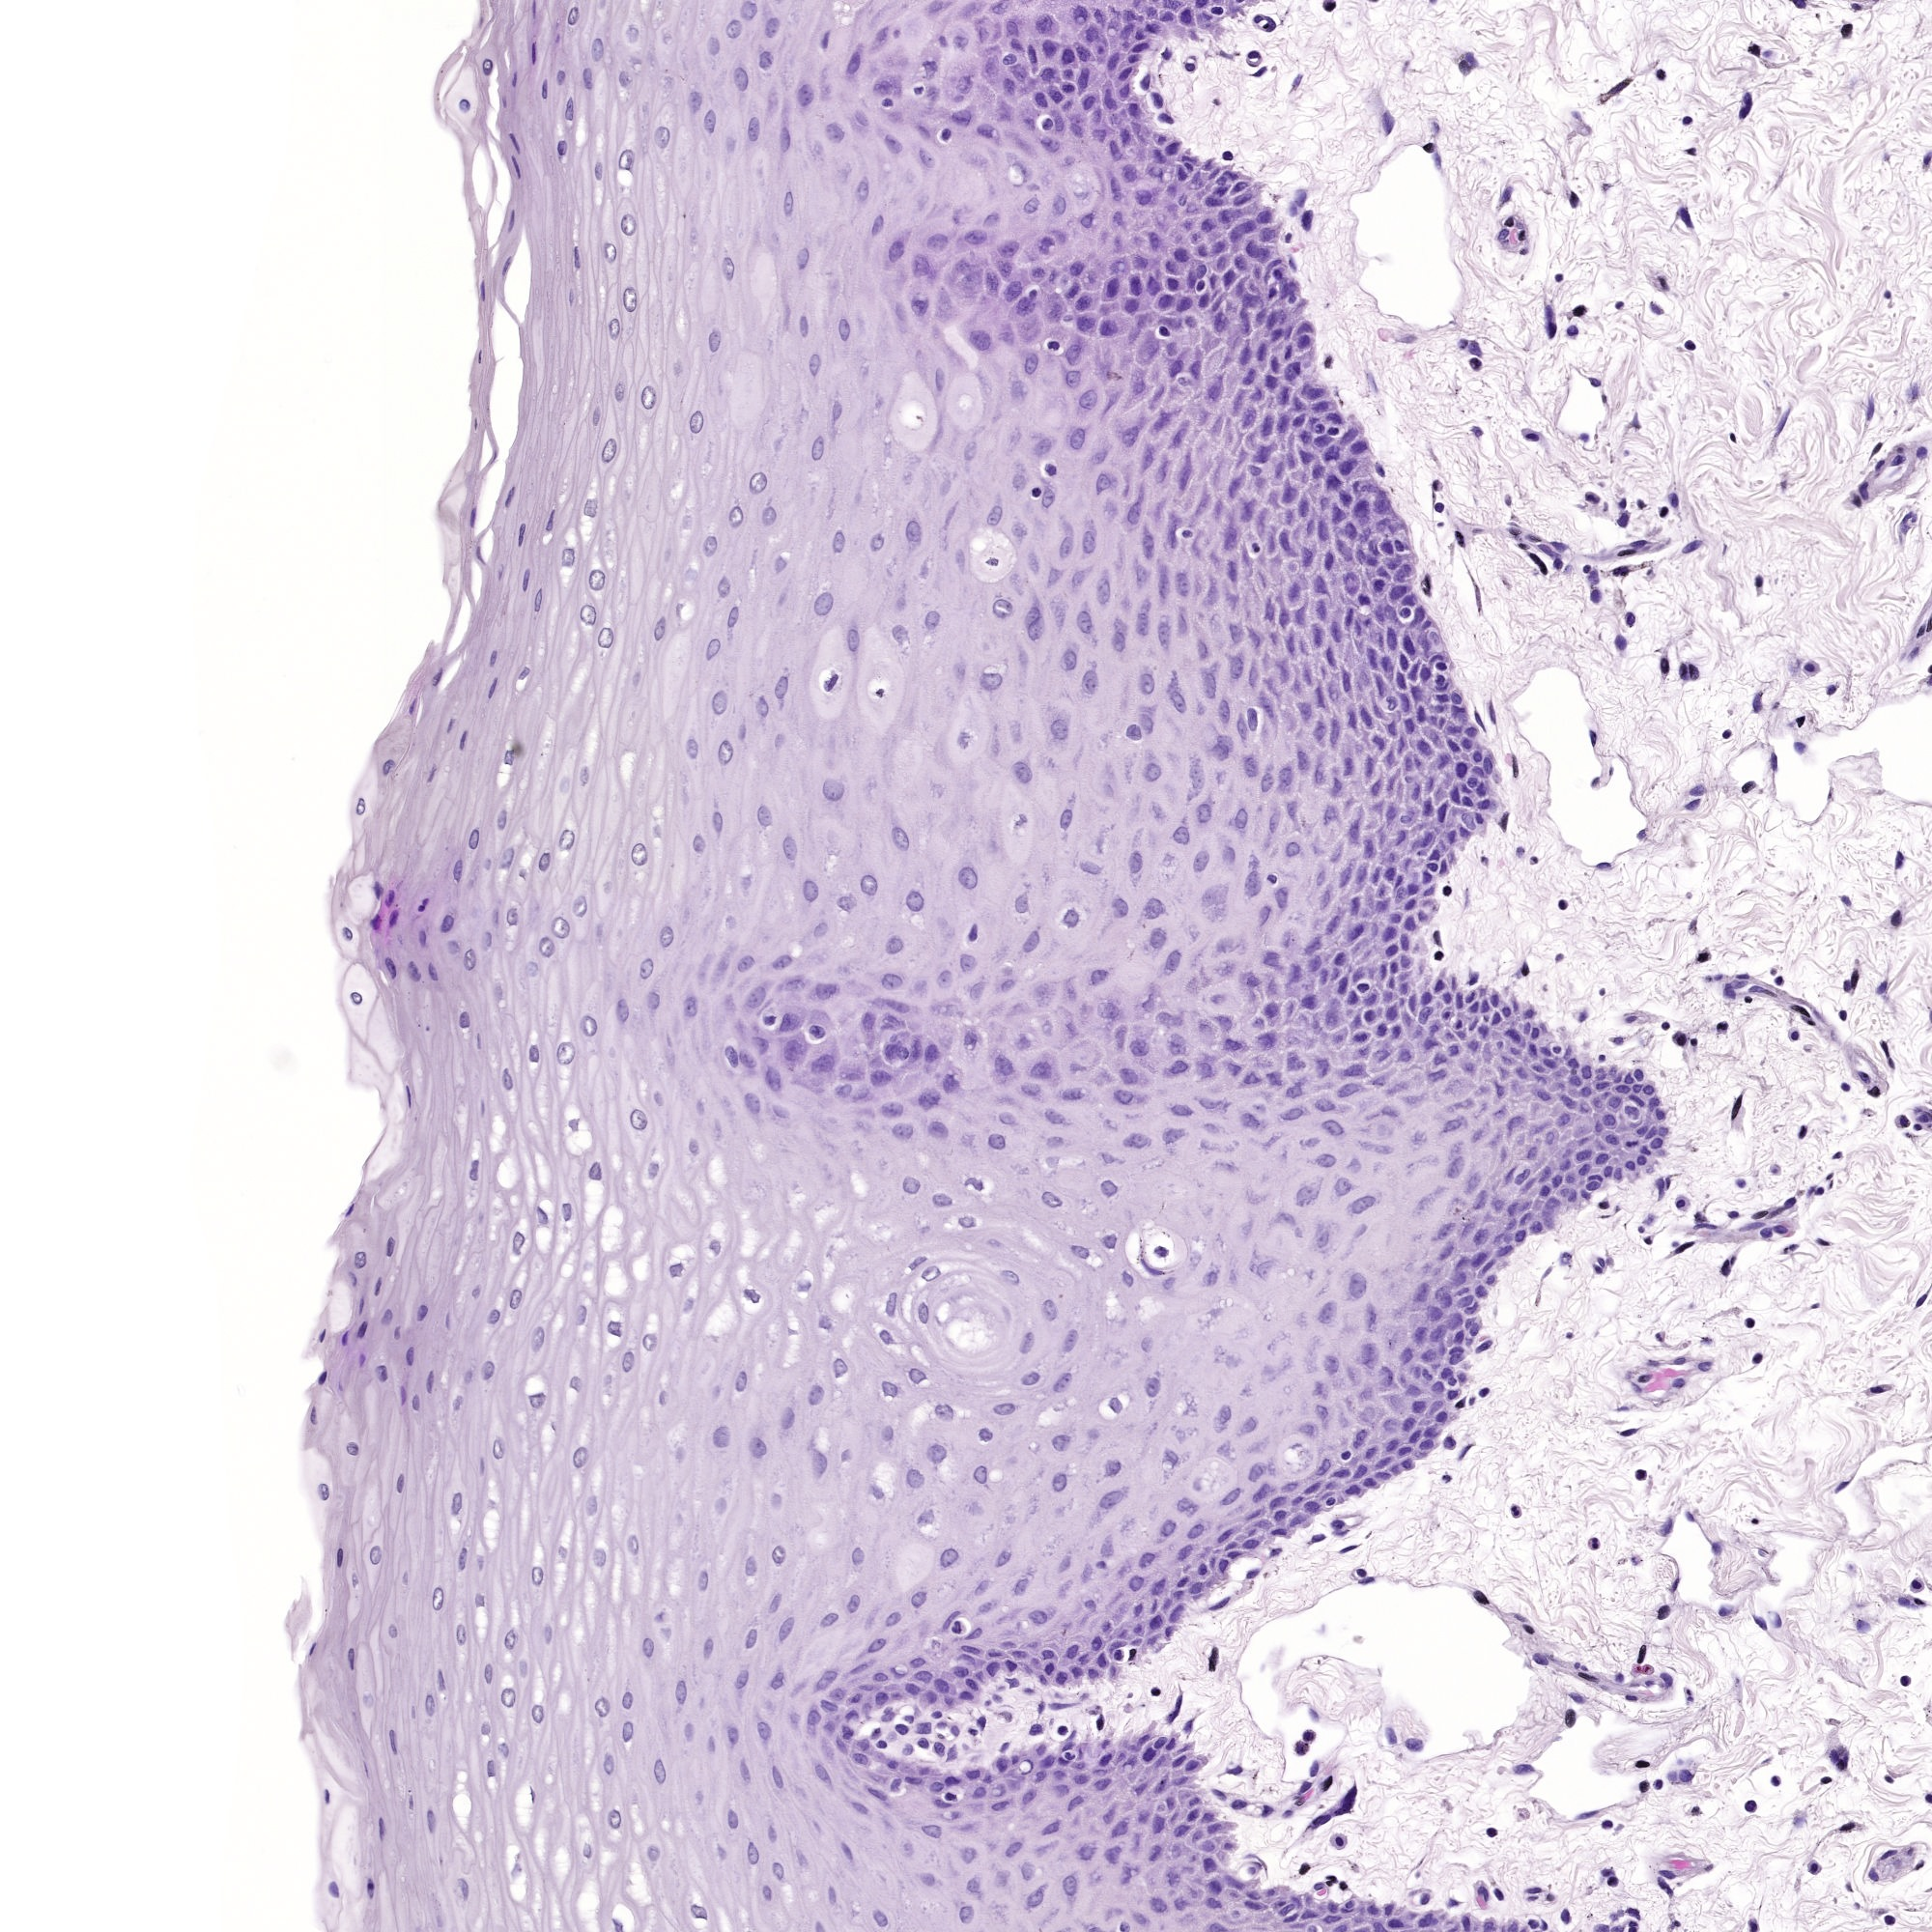apoptosis / civiatte body: (421, 901, 426, 908)
epithelial: (1106, 1010, 1116, 1017), (1304, 1189, 1311, 1198), (1230, 1490, 1237, 1499), (685, 1005, 695, 1010), (1392, 1925, 1408, 1928), (1108, 101, 1115, 108), (1007, 246, 1014, 253), (991, 278, 996, 287), (867, 883, 876, 888), (1067, 1334, 1072, 1343), (812, 1392, 817, 1401), (1260, 1490, 1265, 1499), (962, 1907, 968, 1916), (1046, 46, 1053, 51), (1247, 377, 1254, 382), (1329, 453, 1339, 456), (1345, 465, 1352, 471), (1118, 633, 1122, 644), (759, 1042, 764, 1049), (752, 994, 757, 1001), (878, 1077, 885, 1083), (895, 1005, 902, 1010), (1161, 1017, 1168, 1023), (1074, 1249, 1081, 1254), (718, 1504, 725, 1509), (1290, 1914, 1297, 1920), (800, 1856, 805, 1863), (1178, 435, 1182, 444), (1060, 605, 1063, 614), (1141, 617, 1145, 626), (1249, 763, 1253, 771), (1352, 826, 1355, 835), (1325, 895, 1329, 904), (791, 1047, 794, 1056), (968, 1035, 971, 1044), (1461, 1258, 1465, 1267), (1152, 1384, 1155, 1392), (1283, 1907, 1292, 1911), (1099, 1780, 1108, 1783), (609, 1759, 612, 1767), (881, 85, 886, 90), (892, 249, 897, 255), (962, 85, 968, 90), (1001, 265, 1007, 271), (1283, 288, 1288, 294), (1414, 787, 1419, 793), (1315, 961, 1320, 966), (750, 1102, 755, 1108), (973, 989, 978, 994), (1051, 1116, 1056, 1122), (1205, 1145, 1210, 1150), (1322, 1104, 1327, 1109), (1433, 1332, 1438, 1338), (626, 1359, 632, 1364), (773, 1601, 778, 1606), (1307, 1488, 1313, 1493), (1120, 1631, 1125, 1637), (1046, 1665, 1051, 1670), (1046, 1760, 1051, 1766), (1136, 1785, 1141, 1790), (803, 96, 807, 103), (851, 62, 855, 69), (1111, 58, 1115, 65), (1244, 352, 1247, 359), (1146, 458, 1150, 465), (1161, 467, 1164, 474), (732, 614, 736, 621), (1180, 582, 1184, 589), (1322, 529, 1325, 536), (1196, 773, 1200, 780), (989, 678, 993, 685), (545, 860, 548, 867), (1178, 833, 1185, 837), (1203, 810, 1207, 817), (1212, 893, 1215, 901), (1175, 954, 1178, 961), (1223, 945, 1230, 948), (1361, 870, 1364, 878), (1368, 846, 1371, 853), (1426, 803, 1430, 810), (821, 1063, 828, 1067), (964, 961, 971, 964), (1039, 1069, 1046, 1072), (1136, 1138, 1143, 1141), (1205, 1067, 1208, 1074), (1270, 984, 1274, 991), (1330, 1014, 1334, 1021), (1631, 1111, 1635, 1118), (1476, 1233, 1479, 1240), (1405, 1353, 1408, 1361), (1063, 1380, 1067, 1387), (492, 1315, 499, 1318), (387, 1244, 391, 1251), (915, 1477, 918, 1484), (1143, 1560, 1146, 1568), (1063, 1587, 1067, 1594), (971, 1633, 978, 1637), (1178, 1759, 1185, 1762), (1159, 1782, 1162, 1789), (1047, 1828, 1054, 1831), (662, 134, 665, 140), (876, 223, 879, 228), (1169, 145, 1173, 150), (1240, 198, 1246, 202), (1226, 212, 1230, 218), (918, 264, 922, 269), (1132, 285, 1138, 288), (1228, 276, 1231, 281), (1086, 398, 1090, 403), (1162, 421, 1168, 425), (1099, 481, 1104, 485), (1318, 439, 1323, 442), (1346, 435, 1352, 439), (1231, 485, 1242, 487), (1017, 479, 1023, 483), (975, 333, 980, 336), (534, 600, 540, 603), (660, 628, 663, 633), (1053, 573, 1056, 579), (1104, 589, 1106, 600), (1336, 511, 1339, 517), (1359, 554, 1362, 559), (1401, 571, 1405, 577), (1394, 589, 1398, 594), (1146, 681, 1150, 686), (1380, 681, 1384, 686), (1265, 782, 1269, 787), (1380, 743, 1384, 748), (1375, 784, 1378, 789), (955, 669, 959, 674), (444, 922, 448, 927), (810, 890, 814, 895), (901, 835, 904, 840), (1122, 904, 1125, 909), (1253, 885, 1256, 890), (1336, 855, 1339, 860), (1330, 924, 1334, 929), (1387, 932, 1391, 938), (1338, 955, 1341, 961), (464, 1019, 467, 1024), (745, 1058, 748, 1063), (823, 989, 828, 993), (1136, 1044, 1139, 1049), (1129, 1076, 1132, 1081), (1169, 1132, 1173, 1138), (1182, 1106, 1185, 1111), (1231, 1067, 1235, 1072), (1343, 1088, 1353, 1090), (1633, 1141, 1638, 1145), (1522, 1177, 1527, 1180), (1467, 1230, 1470, 1235), (1479, 1290, 1483, 1295), (1458, 1277, 1461, 1283), (1461, 1300, 1467, 1304), (1419, 1332, 1424, 1336), (1453, 1357, 1458, 1361), (1426, 1353, 1431, 1357), (1168, 1279, 1171, 1284), (913, 1373, 918, 1376), (886, 1387, 890, 1392), (932, 1454, 938, 1458), (980, 1587, 985, 1591), (1231, 1552, 1235, 1557), (1251, 1541, 1254, 1546), (1295, 1518, 1300, 1522), (1382, 1474, 1387, 1477), (1322, 1408, 1325, 1414), (1253, 1891, 1256, 1897), (1007, 1663, 1012, 1667), (890, 1615, 893, 1621), (977, 1790, 982, 1794), (1102, 1759, 1108, 1762), (1141, 1737, 1146, 1741), (1214, 1826, 1219, 1829), (1180, 1829, 1185, 1833), (1012, 1845, 1016, 1851), (1115, 1854, 1118, 1859), (1154, 1852, 1157, 1858), (488, 1766, 492, 1771), (1129, 433, 1131, 442), (1162, 626, 1164, 635), (1233, 536, 1235, 545), (1373, 656, 1375, 665), (1410, 918, 1412, 927), (474, 1166, 476, 1175), (793, 984, 801, 985), (1359, 1203, 1368, 1205), (1049, 1307, 1051, 1316), (839, 1362, 840, 1371), (816, 1461, 824, 1463), (1102, 1652, 1104, 1661), (789, 1621, 791, 1629), (740, 1675, 741, 1684), (524, 1665, 525, 1674), (488, 1667, 490, 1675), (596, 48, 600, 51), (625, 78, 628, 81), (695, 101, 699, 104), (709, 119, 713, 122), (892, 142, 895, 145), (959, 41, 962, 44), (932, 4, 936, 7), (1012, 23, 1014, 30), (1016, 71, 1019, 74), (1054, 96, 1058, 99), (1042, 21, 1046, 25), (1125, 28, 1127, 35), (1150, 28, 1157, 30), (1099, 134, 1102, 138), (1263, 214, 1265, 221), (1265, 234, 1272, 235), (1154, 241, 1157, 244), (971, 235, 975, 239), (1113, 285, 1116, 288), (1200, 267, 1203, 271), (1251, 301, 1254, 304), (1215, 303, 1219, 306), (1237, 287, 1240, 290), (1261, 313, 1263, 320), (1270, 320, 1274, 324), (1302, 327, 1309, 329), (1286, 350, 1290, 354), (1148, 343, 1150, 350), (1109, 402, 1113, 405), (1237, 398, 1240, 402), (1322, 403, 1325, 407), (1357, 446, 1361, 449), (1318, 469, 1320, 476), (970, 448, 971, 455), (842, 327, 846, 331), (768, 511, 770, 518), (911, 531, 915, 534), (931, 617, 932, 625), (1033, 630, 1037, 633), (1146, 541, 1148, 548), (1212, 593, 1214, 600), (1283, 538, 1286, 541), (1150, 770, 1154, 773), (1207, 685, 1210, 688), (1269, 708, 1272, 711), (1431, 656, 1435, 660), (1422, 747, 1426, 750), (1481, 786, 1483, 793), (511, 916, 515, 920), (697, 844, 701, 847), (745, 964, 748, 968), (646, 968, 649, 971), (846, 901, 849, 904), (893, 943, 897, 947), (964, 876, 968, 879), (1201, 858, 1203, 865), (1318, 878, 1322, 881), (1311, 947, 1318, 948), (1461, 832, 1465, 835), (1412, 886, 1415, 890), (1357, 929, 1361, 932), (1408, 901, 1412, 904), (1389, 950, 1392, 954), (506, 1077, 508, 1085), (862, 1095, 865, 1099), (932, 1053, 936, 1056), (901, 1129, 904, 1132), (943, 978, 947, 982), (1177, 1044, 1178, 1051), (1231, 1044, 1235, 1047), (1270, 1008, 1274, 1012), (1307, 1001, 1311, 1005), (1293, 1090, 1297, 1093), (1288, 1115, 1295, 1116), (1332, 1125, 1336, 1129), (1325, 1157, 1327, 1164), (1322, 1065, 1325, 1069), (1352, 1069, 1359, 1070), (1361, 1053, 1364, 1056), (1359, 1037, 1362, 1040), (1343, 984, 1345, 991), (1394, 1088, 1398, 1092), (1438, 985, 1442, 989), (1580, 1154, 1583, 1157), (1583, 1168, 1587, 1171), (1591, 1185, 1594, 1189), (1444, 1228, 1445, 1235), (1476, 1258, 1477, 1265), (1456, 1293, 1463, 1295), (1426, 1375, 1430, 1378), (1208, 1276, 1212, 1279), (1024, 1341, 1026, 1348), (922, 1311, 925, 1315), (534, 1338, 538, 1341), (515, 1297, 517, 1304), (518, 1240, 522, 1244), (456, 1401, 460, 1405), (580, 1454, 582, 1461), (720, 1433, 722, 1440), (789, 1414, 791, 1421), (920, 1594, 922, 1601), (924, 1516, 927, 1520), (1109, 1497, 1113, 1500), (1157, 1585, 1161, 1589), (1180, 1580, 1184, 1583), (1276, 1500, 1279, 1504), (1357, 1437, 1361, 1440), (1330, 1918, 1338, 1920), (1136, 1628, 1139, 1631), (1111, 1644, 1118, 1645), (973, 1649, 977, 1652), (931, 1695, 934, 1698), (922, 1675, 925, 1679), (828, 1706, 832, 1709), (828, 1727, 832, 1730), (775, 1679, 778, 1683), (828, 1619, 832, 1622), (777, 1773, 778, 1780), (821, 1773, 824, 1776), (858, 1757, 862, 1760), (856, 1805, 860, 1808), (1146, 1755, 1150, 1759), (1180, 1778, 1184, 1782), (1157, 1819, 1159, 1826), (1106, 1813, 1109, 1817), (1024, 1794, 1028, 1798), (1000, 1805, 1003, 1808), (1180, 1902, 1184, 1905), (547, 1633, 550, 1637), (426, 1704, 430, 1707), (502, 1748, 506, 1752), (587, 74, 589, 80), (731, 28, 736, 30), (787, 202, 789, 207), (991, 65, 993, 71), (1014, 44, 1019, 46), (1008, 85, 1010, 90), (1065, 88, 1070, 90), (1088, 34, 1093, 35), (1067, 55, 1069, 60), (1067, 74, 1072, 76), (1083, 80, 1085, 85), (1185, 14, 1187, 19), (1139, 46, 1145, 48), (1131, 58, 1136, 60), (1123, 71, 1125, 76), (1097, 113, 1099, 119), (1125, 133, 1127, 138), (1214, 202, 1219, 203), (1207, 223, 1208, 228), (1219, 244, 1221, 249), (1145, 196, 1146, 202), (1182, 198, 1184, 203), (1086, 219, 1088, 225), (991, 218, 993, 223), (1049, 239, 1051, 244), (1139, 260, 1141, 265), (1293, 364, 1295, 370), (1185, 472, 1187, 478), (1284, 393, 1286, 398), (1277, 469, 1279, 474), (1290, 492, 1292, 497), (1345, 497, 1350, 499), (1016, 386, 1017, 391), (918, 303, 920, 308), (713, 338, 715, 343), (724, 586, 725, 591), (1031, 617, 1033, 623), (1085, 617, 1086, 623), (1065, 543, 1067, 548), (1182, 621, 1184, 626), (1246, 510, 1247, 515), (1371, 561, 1376, 563), (1224, 711, 1226, 717), (1290, 639, 1292, 644), (1283, 667, 1284, 672), (1330, 656, 1332, 662), (1387, 662, 1389, 667), (1415, 690, 1417, 695), (1284, 773, 1286, 778), (1348, 764, 1350, 770), (1408, 761, 1410, 766), (1454, 791, 1456, 796), (1024, 771, 1026, 777), (472, 837, 474, 842), (414, 968, 416, 973), (1031, 939, 1033, 945), (1242, 817, 1244, 823), (1228, 851, 1230, 856), (1283, 893, 1284, 899), (1389, 810, 1391, 816), (1403, 819, 1408, 821), (1389, 870, 1391, 876), (1422, 915, 1424, 920), (356, 996, 357, 1001), (571, 1122, 573, 1127), (653, 1168, 655, 1173), (770, 1079, 775, 1081), (844, 1088, 846, 1093), (892, 1109, 897, 1111), (938, 1127, 939, 1132), (1001, 1062, 1003, 1067), (1042, 991, 1044, 996), (1122, 1095, 1127, 1097), (1208, 1127, 1214, 1129), (1341, 1184, 1343, 1189), (1391, 1012, 1392, 1017), (1387, 1109, 1389, 1115), (1424, 1012, 1426, 1017), (1651, 1100, 1652, 1106), (1642, 1129, 1644, 1134), (1557, 1180, 1559, 1185), (1509, 1175, 1511, 1180), (1481, 1196, 1483, 1201), (1499, 1200, 1500, 1205), (1523, 1215, 1525, 1221), (1445, 1247, 1447, 1253), (1490, 1279, 1491, 1284), (1454, 1320, 1456, 1325), (1327, 1309, 1329, 1315), (1369, 1353, 1371, 1359), (1146, 1341, 1148, 1346), (1007, 1276, 1012, 1277), (892, 1300, 893, 1306), (386, 1315, 387, 1320), (377, 1286, 379, 1292), (430, 1378, 432, 1384), (600, 1553, 602, 1559), (702, 1578, 704, 1583), (663, 1394, 665, 1399), (858, 1553, 860, 1559), (1138, 1605, 1139, 1610), (1178, 1606, 1180, 1612), (1182, 1552, 1184, 1557), (1194, 1529, 1196, 1534), (1428, 1920, 1430, 1925), (1169, 1628, 1171, 1633), (1106, 1624, 1108, 1629), (1077, 1670, 1079, 1675), (950, 1615, 952, 1621), (959, 1672, 964, 1674), (964, 1695, 970, 1697), (856, 1668, 862, 1670), (948, 1780, 954, 1782), (1058, 1776, 1063, 1778), (1079, 1780, 1085, 1782), (1159, 1743, 1161, 1748), (1192, 1813, 1194, 1819), (1120, 1824, 1122, 1829), (1205, 1845, 1207, 1851), (1173, 1875, 1175, 1881), (1000, 1875, 1001, 1881), (487, 64, 488, 67), (513, 140, 517, 142), (561, 145, 563, 149), (543, 87, 545, 90), (711, 46, 715, 48), (748, 7, 752, 9), (770, 27, 773, 28), (752, 127, 755, 129), (784, 136, 786, 140), (879, 34, 881, 37), (832, 131, 835, 133), (941, 39, 943, 42), (980, 30, 982, 34), (1031, 51, 1033, 55), (1039, 99, 1040, 103), (1046, 73, 1047, 76), (1081, 9, 1083, 12), (1083, 51, 1085, 55), (1138, 35, 1141, 37), (1076, 129, 1077, 133), (1132, 108, 1134, 111), (1115, 149, 1116, 152), (1159, 156, 1161, 159), (1185, 156, 1187, 159), (964, 119, 968, 120), (982, 131, 985, 133), (1053, 142, 1054, 145), (1207, 165, 1210, 166), (1221, 180, 1223, 184), (1238, 186, 1242, 188), (1247, 226, 1251, 228), (1233, 235, 1235, 239), (1118, 216, 1120, 219), (1058, 205, 1060, 209), (939, 241, 941, 244), (1076, 267, 1079, 269), (1154, 285, 1155, 288), (1191, 278, 1192, 281), (1221, 262, 1223, 265), (1240, 264, 1242, 267), (1164, 301, 1166, 304), (1081, 301, 1083, 304), (1302, 341, 1306, 343), (1274, 364, 1277, 366), (1214, 395, 1217, 396), (1194, 370, 1196, 373), (1173, 366, 1177, 368), (1155, 395, 1159, 396), (1097, 456, 1100, 458), (1246, 416, 1247, 419), (1334, 416, 1338, 418), (1306, 456, 1307, 460), (1253, 469, 1254, 472), (1290, 460, 1292, 464), (814, 363, 816, 366), (619, 387, 621, 391), (570, 295, 571, 299), (594, 414, 596, 418), (472, 513, 474, 517), (837, 541, 839, 545), (823, 603, 824, 607), (959, 556, 961, 559), (948, 513, 950, 517), (1017, 531, 1021, 533), (1033, 563, 1035, 566), (1217, 506, 1219, 510), (1399, 545, 1401, 548), (1345, 550, 1348, 552), (1318, 582, 1320, 586), (1391, 564, 1392, 568), (1460, 766, 1461, 770), (1201, 649, 1203, 653), (1143, 720, 1146, 722), (1251, 671, 1253, 674), (1304, 709, 1306, 713), (1403, 660, 1405, 663), (1442, 697, 1445, 699), (1391, 702, 1392, 706), (1408, 722, 1410, 725), (1391, 725, 1392, 729), (1376, 709, 1378, 713), (1362, 717, 1364, 720), (1338, 784, 1339, 787), (1368, 766, 1369, 770), (1401, 743, 1403, 747), (1389, 757, 1392, 759), (1391, 780, 1392, 784), (1454, 743, 1456, 747), (1453, 731, 1456, 732), (1476, 755, 1477, 759), (1467, 801, 1468, 805), (458, 863, 460, 867), (433, 971, 435, 975), (764, 816, 766, 819), (732, 920, 734, 924), (780, 964, 784, 966), (1154, 904, 1155, 908), (1290, 847, 1293, 849), (1484, 801, 1486, 805), (1477, 817, 1479, 821), (1435, 853, 1437, 856), (1431, 867, 1435, 869), (1430, 890, 1431, 893), (1399, 893, 1401, 897), (1398, 879, 1399, 883), (1295, 971, 1297, 975), (1382, 968, 1384, 971), (1405, 959, 1407, 962), (651, 1001, 655, 1003), (658, 1097, 660, 1100), (789, 1023, 791, 1026), (867, 1021, 869, 1024), (892, 982, 893, 985), (904, 1053, 906, 1056), (929, 1097, 931, 1100), (908, 1184, 909, 1187), (939, 1198, 941, 1201), (593, 1168, 594, 1171), (1070, 1024, 1072, 1028), (1120, 1033, 1122, 1037), (1070, 1093, 1074, 1095), (1074, 1067, 1077, 1069), (1049, 1198, 1051, 1201), (1177, 1067, 1180, 1069), (1205, 1028, 1207, 1031), (1224, 1023, 1228, 1024), (1215, 996, 1217, 1000), (1207, 1104, 1210, 1106), (1247, 1120, 1251, 1122), (1267, 1039, 1269, 1042), (1293, 1062, 1295, 1065), (1352, 996, 1353, 1000), (1357, 975, 1359, 978), (1371, 998, 1373, 1001), (1412, 1001, 1414, 1005), (1380, 1028, 1382, 1031), (1407, 1017, 1408, 1021), (1424, 996, 1426, 1000), (1628, 1077, 1629, 1081), (1660, 1115, 1661, 1118), (1617, 1171, 1619, 1175), (1566, 1162, 1568, 1166), (1545, 1171, 1546, 1175), (1564, 1191, 1566, 1194), (1525, 1185, 1527, 1189), (1509, 1207, 1511, 1210), (1468, 1309, 1472, 1311), (1467, 1322, 1468, 1325), (1458, 1336, 1460, 1339), (1433, 1313, 1435, 1316), (1371, 1315, 1373, 1318), (1454, 1350, 1458, 1352), (1461, 1376, 1463, 1380), (1435, 1387, 1437, 1391), (1412, 1392, 1415, 1394), (1261, 1267, 1263, 1270), (1125, 1274, 1127, 1277), (1108, 1240, 1109, 1244), (968, 1221, 971, 1223), (1028, 1380, 1030, 1384), (913, 1263, 916, 1265), (740, 1380, 741, 1384), (686, 1306, 688, 1309), (359, 1260, 361, 1263), (349, 1212, 350, 1215), (322, 1376, 324, 1380), (343, 1339, 345, 1343), (382, 1373, 384, 1376), (350, 1447, 352, 1451), (755, 1444, 757, 1447), (855, 1601, 856, 1605), (876, 1490, 878, 1493), (943, 1412, 947, 1414), (1168, 1454, 1171, 1456), (1249, 1426, 1251, 1430), (1106, 1546, 1108, 1550), (1136, 1585, 1138, 1589), (1223, 1562, 1224, 1566), (1223, 1536, 1224, 1539), (1254, 1472, 1256, 1476), (1279, 1532, 1283, 1534), (1311, 1506, 1315, 1507), (1295, 1499, 1297, 1502), (1307, 1428, 1309, 1431), (1424, 1444, 1428, 1445), (1430, 1431, 1431, 1435), (1532, 1923, 1534, 1927), (1251, 1905, 1254, 1907), (1277, 1905, 1281, 1907), (1307, 1914, 1309, 1918), (1157, 1621, 1159, 1624), (1037, 1617, 1039, 1621), (991, 1667, 993, 1670), (939, 1684, 941, 1688), (911, 1688, 915, 1690), (948, 1698, 950, 1702), (879, 1675, 881, 1679), (846, 1732, 849, 1734), (812, 1716, 814, 1720), (763, 1729, 764, 1732), (842, 1743, 844, 1746), (874, 1792, 878, 1794), (913, 1782, 916, 1783), (971, 1773, 975, 1775), (1039, 1775, 1040, 1778), (1191, 1764, 1192, 1767), (1207, 1815, 1208, 1819), (1076, 1799, 1077, 1803), (1212, 1904, 1215, 1905), (1125, 1874, 1127, 1877), (403, 1576, 405, 1580), (350, 1654, 352, 1658), (465, 1888, 467, 1891), (653, 1852, 656, 1854), (734, 1819, 736, 1822), (513, 80, 515, 81), (504, 101, 506, 103), (517, 166, 518, 168), (571, 14, 573, 16), (632, 34, 633, 35), (764, 58, 766, 60), (506, 264, 508, 265), (862, 117, 863, 119), (803, 255, 805, 257), (929, 67, 931, 69), (1000, 7, 1001, 9), (1010, 58, 1012, 60), (1099, 16, 1100, 18), (1169, 18, 1171, 19), (1115, 119, 1116, 120), (1115, 184, 1116, 186), (1221, 191, 1223, 193), (1233, 175, 1235, 177), (1031, 205, 1033, 207), (1171, 283, 1173, 285), (1171, 267, 1173, 269), (1180, 255, 1182, 257), (1292, 297, 1293, 299), (1203, 299, 1205, 301), (1106, 327, 1108, 329), (1086, 322, 1088, 324), (1191, 322, 1192, 324), (1276, 333, 1277, 334), (1270, 382, 1272, 384), (1297, 405, 1299, 407), (1311, 419, 1313, 421), (1304, 435, 1306, 437), (1332, 483, 1334, 485), (478, 554, 479, 556), (520, 531, 522, 533), (780, 563, 782, 564), (1077, 579, 1079, 580), (1231, 598, 1233, 600), (1350, 531, 1352, 533), (1373, 548, 1375, 550), (1362, 602, 1364, 603), (1382, 525, 1384, 527), (1412, 600, 1414, 602), (1219, 752, 1221, 754), (1253, 637, 1254, 639), (1424, 674, 1426, 676), (1422, 637, 1424, 639), (1454, 697, 1456, 699), (1318, 729, 1320, 731), (1302, 763, 1304, 764), (1417, 761, 1419, 763), (1430, 782, 1431, 784), (1444, 761, 1445, 763), (1470, 732, 1472, 734), (1470, 782, 1472, 784), (1058, 727, 1060, 729), (389, 968, 391, 970), (1021, 904, 1023, 906), (1136, 863, 1138, 865), (1269, 959, 1270, 961), (1401, 837, 1403, 839), (1428, 835, 1430, 837), (1426, 878, 1428, 879), (409, 1095, 410, 1097), (778, 1109, 780, 1111), (853, 1077, 855, 1079), (876, 1063, 878, 1065), (950, 1085, 952, 1086), (1023, 1042, 1024, 1044), (1148, 1005, 1150, 1007), (1056, 1141, 1058, 1143), (1049, 1161, 1051, 1162), (1108, 1157, 1109, 1159), (1258, 1023, 1260, 1024), (1253, 982, 1254, 984), (1274, 1077, 1276, 1079), (1380, 1054, 1382, 1056), (1412, 1099, 1414, 1100), (1598, 1129, 1599, 1131), (1612, 1139, 1614, 1141), (1601, 1159, 1603, 1161), (1568, 1178, 1569, 1180), (1598, 1177, 1599, 1178), (1511, 1223, 1513, 1224), (1504, 1251, 1506, 1253), (1488, 1265, 1490, 1267), (1474, 1329, 1476, 1330), (715, 1246, 717, 1247), (612, 1327, 614, 1329), (575, 1382, 577, 1384), (566, 1210, 568, 1212), (322, 1336, 324, 1338), (534, 1399, 536, 1401), (354, 1578, 356, 1580), (478, 1599, 479, 1601), (844, 1454, 846, 1456), (1060, 1442, 1062, 1444), (1115, 1467, 1116, 1468), (1184, 1504, 1185, 1506), (1023, 1587, 1024, 1589), (1178, 1592, 1180, 1594), (1230, 1546, 1231, 1548), (1403, 1449, 1405, 1451), (1391, 1445, 1392, 1447), (1412, 1438, 1414, 1440), (1272, 1891, 1274, 1893), (1373, 1913, 1375, 1914), (1488, 1925, 1490, 1927), (1083, 1661, 1085, 1663), (971, 1684, 973, 1686), (881, 1697, 883, 1698), (876, 1645, 878, 1647), (865, 1688, 867, 1690), (855, 1698, 856, 1700), (837, 1695, 839, 1697), (863, 1746, 865, 1748), (893, 1766, 895, 1767), (1040, 1748, 1042, 1750), (1169, 1746, 1171, 1748), (1196, 1835, 1198, 1836), (1233, 1882, 1235, 1884), (878, 1918, 879, 1920), (846, 1849, 847, 1851), (648, 1645, 649, 1647), (732, 1734, 734, 1736), (311, 1649, 313, 1651), (586, 1851, 587, 1852), (701, 1909, 702, 1911)
fibroblast and endothelial: (1219, 1599, 1224, 1606), (952, 1727, 957, 1734), (1511, 529, 1520, 533), (1844, 1826, 1852, 1829), (1683, 1775, 1691, 1778), (1886, 1851, 1895, 1854), (1690, 545, 1695, 550), (1479, 1592, 1484, 1598), (1920, 448, 1923, 455), (1861, 488, 1865, 495), (1571, 329, 1578, 333), (1840, 1762, 1844, 1769), (1663, 1886, 1667, 1893), (1297, 78, 1300, 83), (1683, 214, 1686, 219), (1897, 458, 1900, 464), (1479, 428, 1483, 433), (1472, 345, 1476, 350), (1541, 564, 1545, 570), (1757, 697, 1759, 708), (1895, 915, 1897, 925), (1679, 1247, 1684, 1251), (1665, 1522, 1668, 1527), (1663, 1612, 1667, 1617), (1668, 1775, 1674, 1778), (1539, 1658, 1543, 1663), (1665, 1677, 1668, 1683), (1412, 1741, 1417, 1744), (1518, 1767, 1529, 1769), (1341, 1810, 1346, 1813), (1350, 1794, 1353, 1799), (901, 1729, 904, 1734), (1725, 1263, 1727, 1272), (1583, 1813, 1592, 1815), (1316, 1821, 1325, 1822), (1307, 216, 1309, 223), (1573, 198, 1576, 202), (1691, 150, 1695, 154), (1780, 423, 1783, 426), (1881, 462, 1884, 465), (1640, 504, 1644, 508), (1773, 759, 1776, 763), (1594, 780, 1598, 784), (1516, 764, 1518, 771), (1914, 649, 1916, 656), (763, 704, 766, 708), (717, 701, 720, 704), (387, 895, 391, 899), (1734, 1104, 1736, 1111), (1921, 1116, 1925, 1120), (1679, 1359, 1683, 1362), (1463, 1451, 1467, 1454), (1447, 1442, 1451, 1445), (1688, 1514, 1691, 1518), (1638, 1762, 1642, 1766), (1872, 1874, 1875, 1877), (1499, 1893, 1502, 1897), (1327, 1778, 1329, 1785), (1302, 1868, 1306, 1872), (996, 1698, 1000, 1702), (1007, 1716, 1010, 1720), (936, 1713, 939, 1716), (950, 1752, 954, 1755), (1261, 71, 1263, 76), (1463, 62, 1465, 67), (1732, 435, 1734, 441), (1592, 380, 1598, 382), (1329, 359, 1330, 364), (1428, 580, 1430, 586), (1530, 538, 1536, 540), (1557, 543, 1562, 545), (1522, 545, 1527, 547), (1596, 594, 1598, 600), (1622, 640, 1624, 646), (826, 791, 832, 793), (375, 920, 377, 925), (1886, 1046, 1888, 1051), (1759, 989, 1764, 991), (1741, 977, 1746, 978), (1580, 1012, 1582, 1017), (1755, 1223, 1757, 1228), (1773, 1212, 1778, 1214), (1702, 1224, 1707, 1226), (1645, 1240, 1651, 1242), (1778, 1619, 1780, 1624), (1665, 1874, 1670, 1875), (1306, 1783, 1307, 1789), (1177, 1706, 1178, 1711), (939, 1748, 941, 1753), (1272, 25, 1274, 28), (1430, 147, 1431, 150), (1522, 235, 1523, 239), (1523, 249, 1525, 253), (1927, 157, 1928, 161), (1886, 292, 1888, 295), (1856, 499, 1858, 502), (1654, 310, 1658, 311), (1619, 303, 1621, 306), (1603, 396, 1605, 400), (1633, 423, 1635, 426), (1380, 472, 1382, 476), (1546, 548, 1550, 550), (1622, 518, 1624, 522), (1624, 552, 1628, 554), (1621, 570, 1624, 571), (1920, 630, 1923, 632), (1746, 784, 1748, 787), (1693, 671, 1695, 674), (1697, 791, 1700, 793), (384, 768, 386, 771), (462, 736, 464, 740), (690, 747, 692, 750), (1484, 860, 1486, 863), (1523, 970, 1525, 973), (1882, 985, 1884, 989), (1737, 984, 1741, 985), (1730, 991, 1732, 994), (1601, 991, 1603, 994), (1803, 1129, 1805, 1132), (1920, 1300, 1923, 1302), (1635, 1389, 1638, 1391), (1642, 1378, 1645, 1380), (1778, 1230, 1782, 1231), (1766, 1231, 1767, 1235), (1345, 1550, 1348, 1552), (1628, 1431, 1629, 1435), (1840, 1486, 1844, 1488), (1902, 1603, 1905, 1605), (1723, 1610, 1725, 1614), (1629, 1697, 1633, 1698), (1587, 1675, 1589, 1679), (1527, 1626, 1529, 1629), (1550, 1897, 1553, 1898), (1564, 1914, 1566, 1918), (1422, 1898, 1424, 1902), (1265, 1808, 1267, 1812), (1187, 1725, 1189, 1729), (1237, 1805, 1240, 1806), (1040, 1707, 1042, 1711), (1035, 1729, 1037, 1732), (1010, 1683, 1014, 1684), (971, 1730, 973, 1734), (876, 1732, 878, 1736), (924, 1727, 927, 1729), (920, 1741, 922, 1744), (1189, 65, 1191, 67), (1168, 55, 1169, 57), (1253, 53, 1254, 55), (1504, 234, 1506, 235), (1663, 280, 1665, 281), (1875, 448, 1877, 449), (1461, 343, 1463, 345), (1536, 557, 1537, 559), (1621, 502, 1622, 504), (1831, 688, 1833, 690), (1799, 747, 1801, 748), (1693, 803, 1695, 805), (1479, 720, 1481, 722), (522, 671, 524, 672), (412, 706, 414, 708), (345, 934, 347, 936), (1845, 897, 1847, 899), (1897, 865, 1898, 867), (1718, 975, 1720, 977), (1707, 978, 1709, 980), (1799, 1008, 1801, 1010), (1810, 1023, 1812, 1024), (1863, 1076, 1865, 1077), (1874, 1092, 1875, 1093), (1838, 1154, 1840, 1155), (1829, 1177, 1831, 1178), (1790, 1201, 1792, 1203), (1875, 1389, 1877, 1391), (1704, 1366, 1706, 1368), (1651, 1362, 1652, 1364), (1658, 1336, 1660, 1338), (1821, 1242, 1822, 1244), (1760, 1214, 1762, 1215), (1732, 1214, 1734, 1215), (1276, 1550, 1277, 1552), (1576, 1697, 1578, 1698), (1918, 1865, 1920, 1867), (1483, 1891, 1484, 1893), (1451, 1904, 1453, 1905), (1235, 1769, 1237, 1771), (908, 1718, 909, 1720)
inflammatory: (1131, 731, 1136, 734), (1069, 916, 1074, 920), (1681, 1037, 1684, 1042), (1157, 99, 1161, 103), (1844, 27, 1847, 30), (1589, 497, 1592, 501), (1456, 534, 1460, 538), (1560, 902, 1564, 906), (1888, 1918, 1891, 1921), (1299, 1748, 1302, 1752), (1145, 81, 1146, 87), (1688, 345, 1693, 347), (1529, 435, 1534, 437), (1467, 821, 1468, 826), (1164, 119, 1168, 120), (1472, 361, 1476, 363), (1580, 310, 1582, 313), (1530, 858, 1534, 860), (1796, 1033, 1798, 1037), (1721, 1026, 1725, 1028), (1755, 1357, 1757, 1361), (1916, 1583, 1918, 1587), (1329, 5, 1330, 7), (1585, 568, 1587, 570), (1629, 617, 1631, 619), (1808, 665, 1810, 667), (1918, 1127, 1920, 1129), (1601, 1205, 1603, 1207), (1640, 1474, 1642, 1476), (1612, 1881, 1614, 1882), (1307, 1736, 1309, 1737)
lymphocyte: (1431, 1074, 1440, 1077), (1348, 1902, 1357, 1905), (1106, 1185, 1111, 1191), (1047, 120, 1051, 126), (971, 932, 975, 938), (975, 1184, 980, 1187), (732, 1056, 736, 1062), (1453, 1164, 1456, 1169), (1497, 1111, 1502, 1115), (1330, 428, 1334, 432), (1033, 490, 1037, 494), (1350, 616, 1352, 623), (1408, 642, 1412, 646), (1438, 679, 1442, 683), (830, 683, 833, 686), (768, 1017, 771, 1021), (1468, 996, 1472, 1000), (1472, 1007, 1476, 1010), (1484, 1003, 1486, 1010), (1495, 1017, 1499, 1021), (1428, 1042, 1431, 1046), (1523, 1014, 1530, 1016), (1638, 1074, 1642, 1077), (1583, 1090, 1587, 1093), (1483, 1391, 1486, 1394), (895, 1783, 899, 1787), (885, 101, 890, 103), (1256, 545, 1258, 550), (1725, 732, 1727, 738), (1576, 1079, 1578, 1085), (1118, 1405, 1120, 1410), (916, 90, 920, 92), (945, 133, 948, 134), (1215, 11, 1219, 12), (1276, 271, 1277, 274), (1201, 285, 1203, 288), (1660, 71, 1661, 74), (1051, 469, 1053, 472), (991, 561, 994, 563), (1403, 612, 1407, 614), (1438, 506, 1440, 510), (1442, 665, 1444, 669), (1744, 998, 1748, 1000), (816, 1028, 817, 1031), (957, 1626, 959, 1629), (1483, 1028, 1484, 1031), (1431, 1028, 1435, 1030), (1437, 1058, 1440, 1060), (1468, 1065, 1470, 1069), (1499, 1088, 1500, 1092), (1451, 1123, 1453, 1127), (1465, 1102, 1468, 1104), (1477, 1136, 1479, 1139), (1514, 1118, 1516, 1122), (1568, 1100, 1569, 1104), (1560, 1120, 1564, 1122), (1548, 1136, 1550, 1139), (1099, 1562, 1100, 1566), (1330, 1877, 1334, 1879), (1251, 1868, 1253, 1872), (1155, 1690, 1157, 1693), (1067, 1755, 1069, 1759), (948, 1798, 952, 1799), (1228, 156, 1230, 157), (1559, 278, 1560, 280), (1686, 120, 1688, 122), (1164, 329, 1166, 331), (1272, 294, 1274, 295), (1054, 343, 1056, 345), (1185, 533, 1187, 534), (1320, 610, 1322, 612), (1380, 614, 1382, 616), (1663, 511, 1665, 513), (1272, 878, 1274, 879), (1445, 888, 1447, 890), (1665, 1026, 1667, 1028), (1778, 978, 1780, 980), (1601, 1056, 1603, 1058), (1456, 1023, 1458, 1024), (1159, 1249, 1161, 1251), (1447, 1014, 1449, 1016), (1460, 1033, 1461, 1035), (1520, 1072, 1522, 1074), (1545, 1095, 1546, 1097), (1601, 1085, 1603, 1086), (1622, 1088, 1624, 1090), (1635, 1088, 1637, 1090), (1638, 1100, 1640, 1102), (984, 1433, 985, 1435), (1493, 1831, 1495, 1833), (1327, 1882, 1329, 1884), (1608, 1824, 1610, 1826), (879, 1744, 881, 1746)
